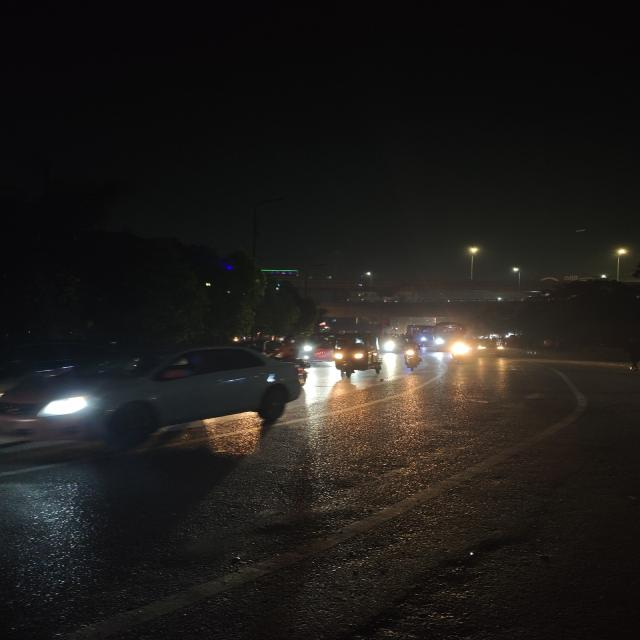bus: (433, 322, 468, 356), (406, 322, 444, 348)
car: (3, 334, 307, 461)
cng: (330, 335, 388, 380)
motorcycle: (402, 346, 420, 372)
